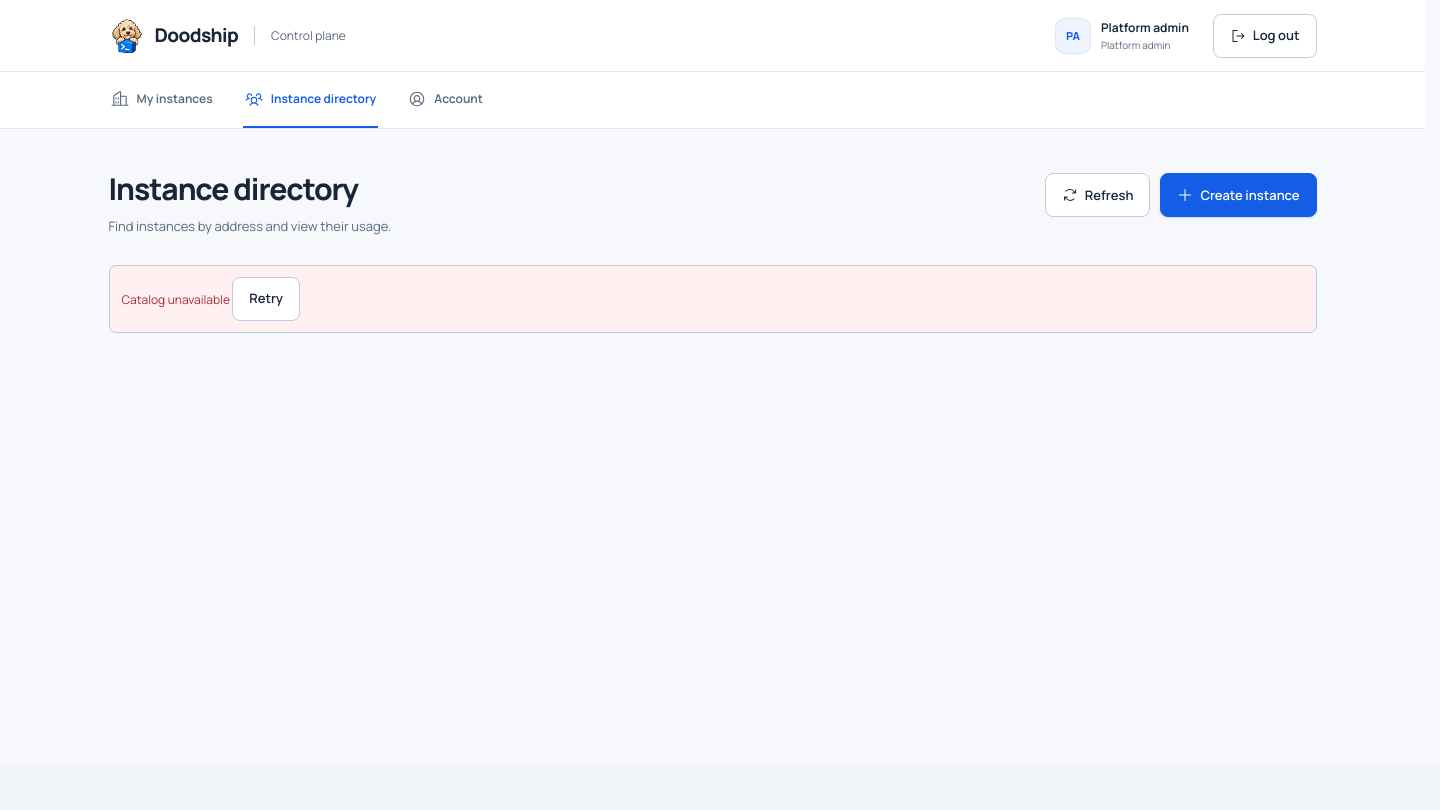
Test: does not turn a directory error into an empty instance list
expect the message "Catalog unavailable Retry" is shown: met, box [108,265,1316,333]
expect the heading "No instances yet" is not shown: met
Click the button "Retry". click: (266, 299)
box: [232,277,300,321]
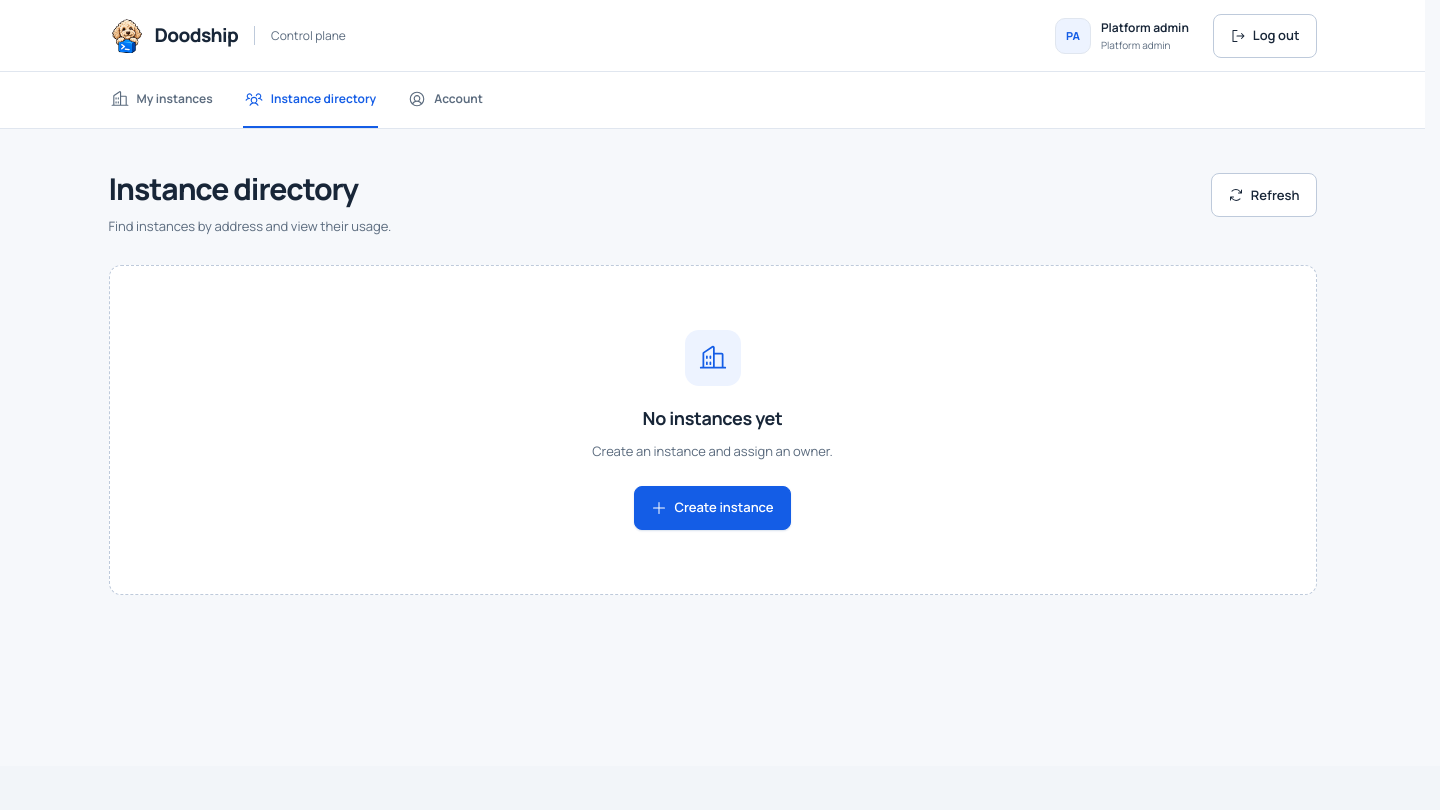
expect the heading "No instances yet" is shown: met, box [643,406,782,431]
